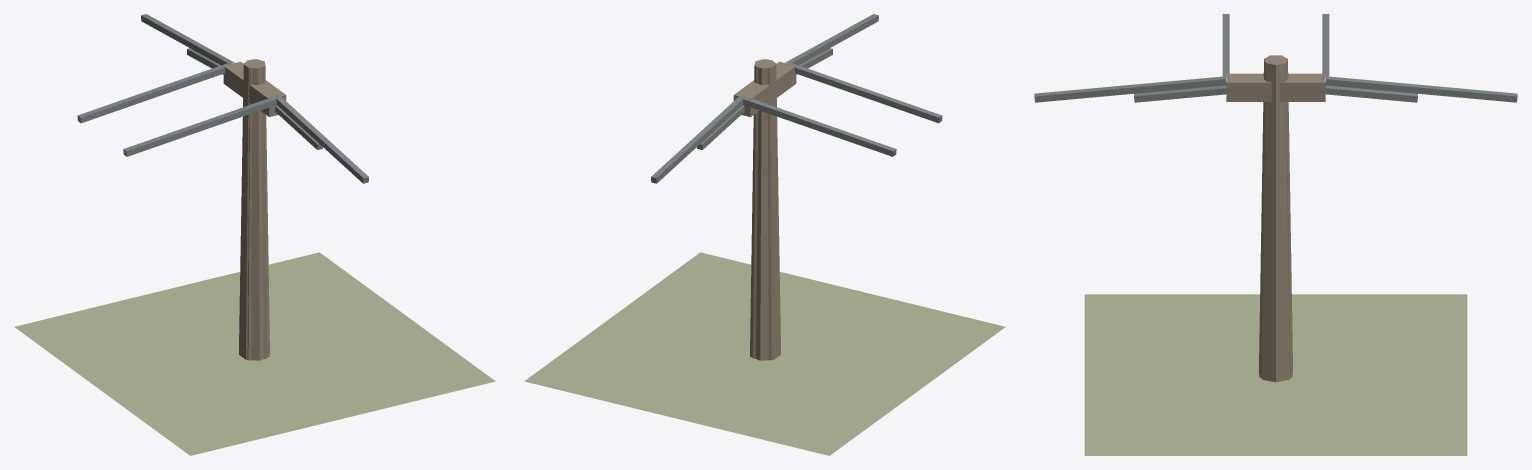
3 views of the same model, side by side, from view 1: azimuth 30°, elevation 25°; view 2: azimuth 150°, elevation 25°; view 3: azimuth 270°, elevation 25° (orthographic). The views are drawn at different scales.
Parts seen in each view (by area): view 1: Near, Far; view 2: Near, Far; view 3: Near, Far.
Boxes of the visible parts, x1,y1,x2,y2 form: Near: [14, 14, 495, 455]; Far: [243, 59, 267, 360]; Near: [524, 14, 1005, 455]; Far: [752, 59, 776, 360]; Near: [1034, 14, 1517, 455]; Far: [1259, 55, 1292, 377].
Size of the model in its own units: 1 by 0.91 by 1.26.
